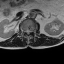CCS_normal: (27, 28, 29, 36)
LFS_stenosis: (31, 29, 32, 34)
LLS_normal: (29, 29, 30, 34)
RFS_normal: (23, 28, 25, 34)
RLS_normal: (25, 28, 27, 35)
